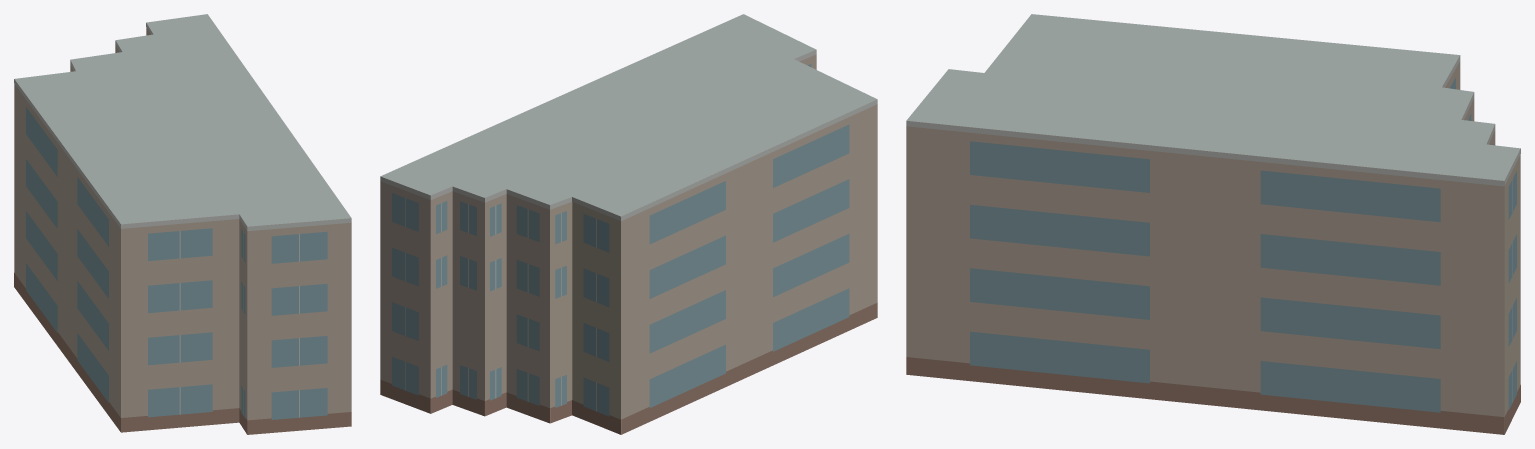
File: survey-upis-32923140.glb
The picture shows the model from 3 angles, left to right: view 1: azimuth 30°, elevation 25°; view 2: azimuth 150°, elevation 25°; view 3: azimuth 270°, elevation 25°; orthographic projection. The views are drawn at different scales.
Visible parts, largest first — view 1: survey-upis-32923140.tmp; view 2: survey-upis-32923140.tmp; view 3: survey-upis-32923140.tmp.
Boxes of the visible parts, x1,y1,x2,y2 form: survey-upis-32923140.tmp: (14,14,351,434); survey-upis-32923140.tmp: (380,14,877,434); survey-upis-32923140.tmp: (906,14,1520,434).
Bounding box in the file's own units: 15.94 × 11.3 × 24.79.
